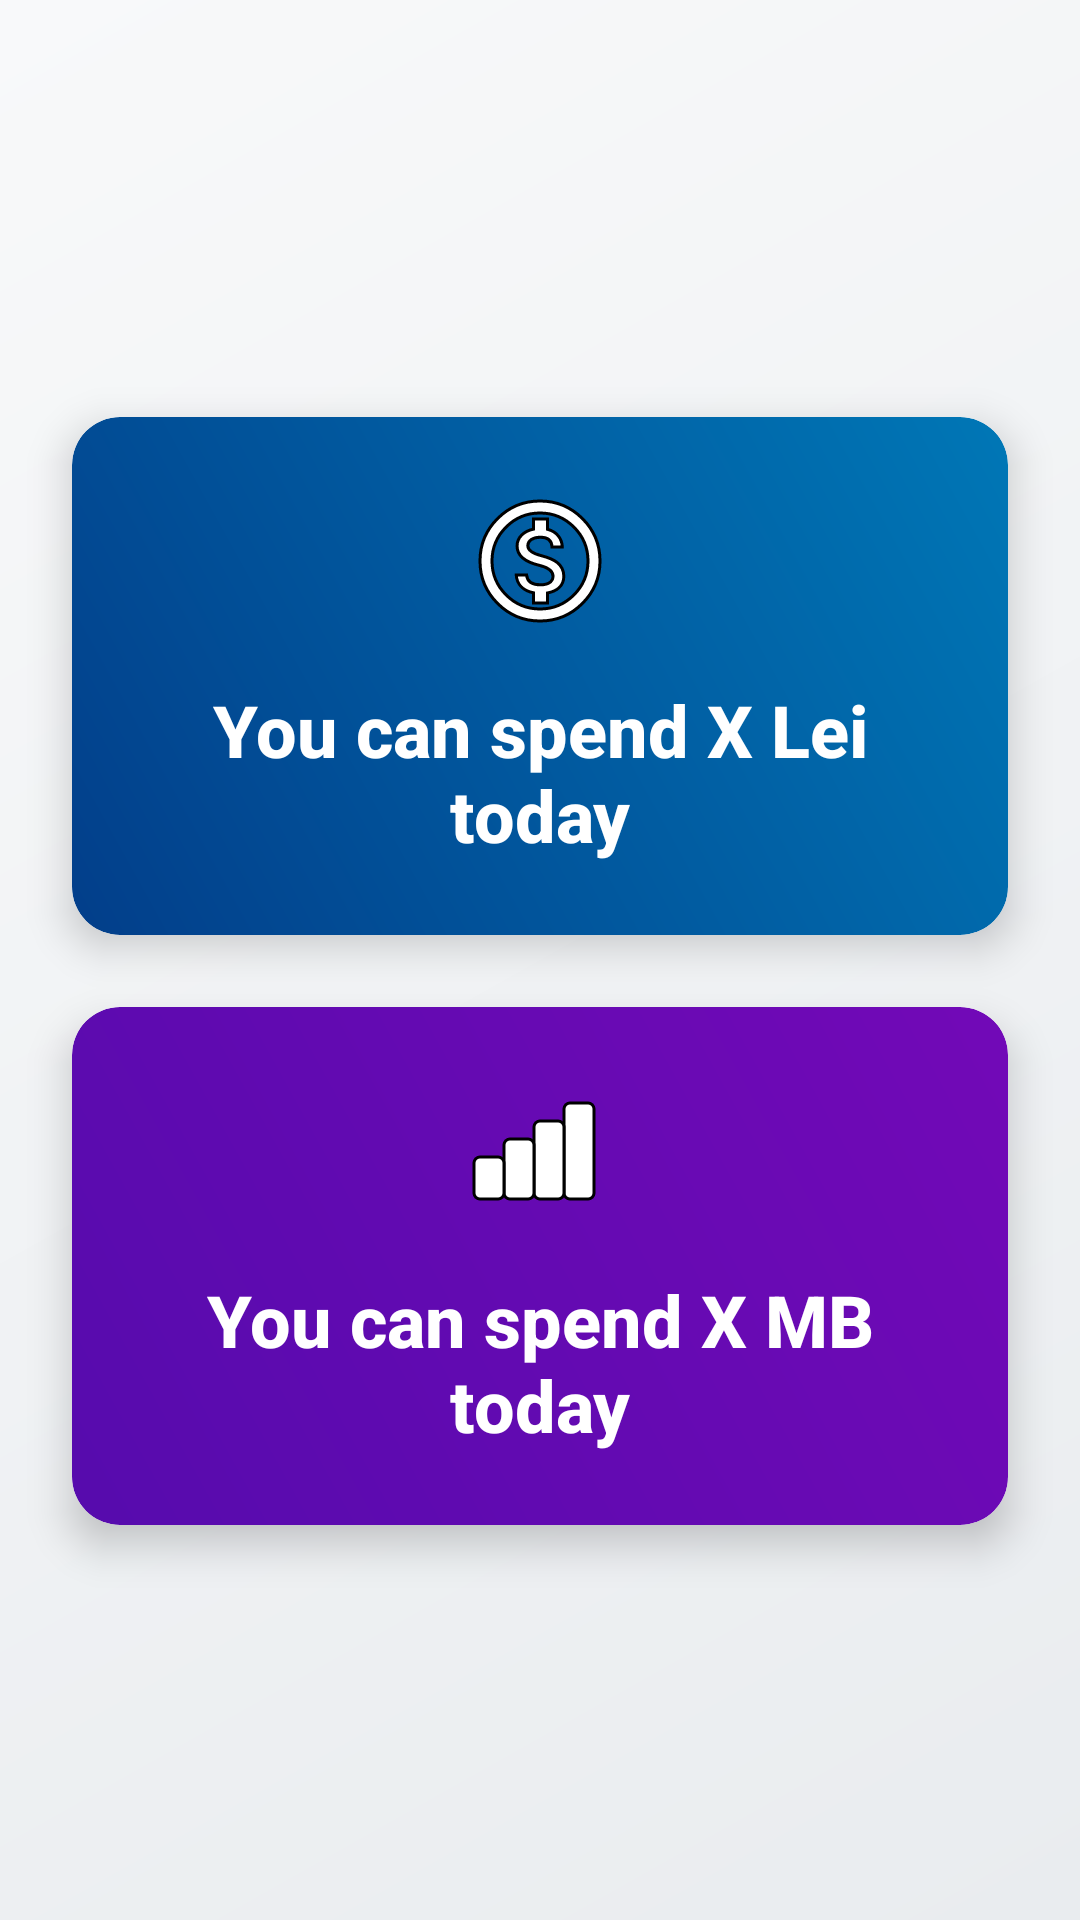

Screen size 1080*1920. Icon name, then its center in pixels as (x,y):
Currency Icon: (540,561)
Data Icon: (534,1151)
